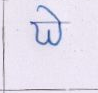e_matra: (37, 5, 65, 22)
